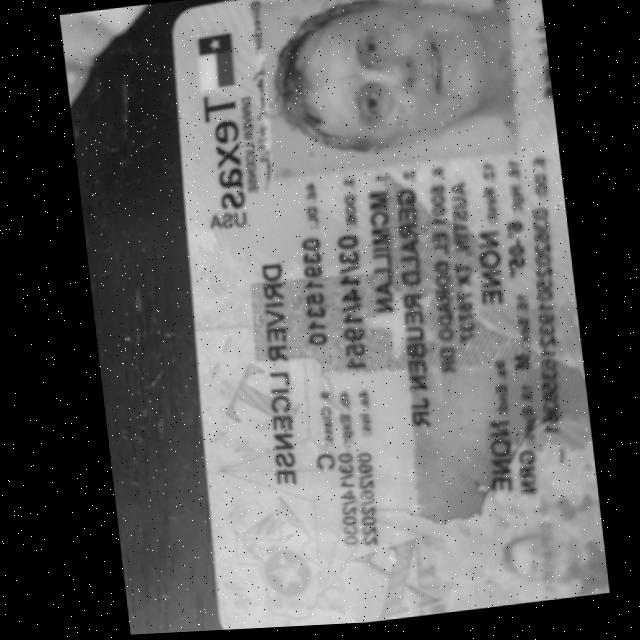card: (173, 0, 609, 629)
